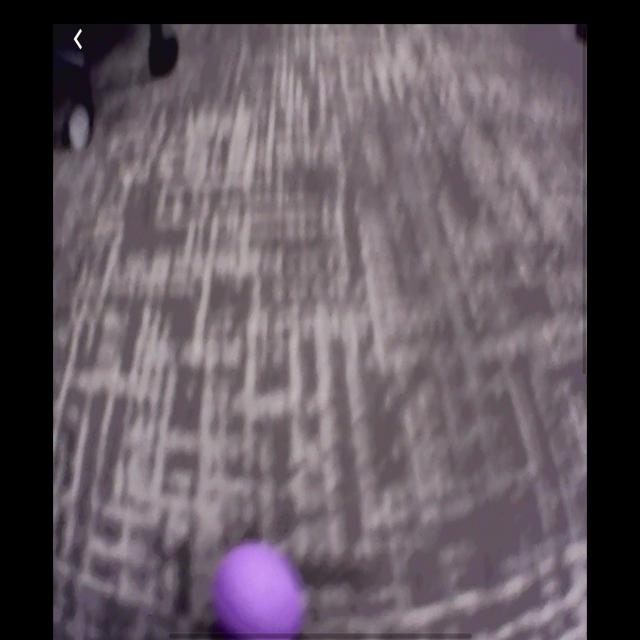ball: (212, 540, 309, 638)
